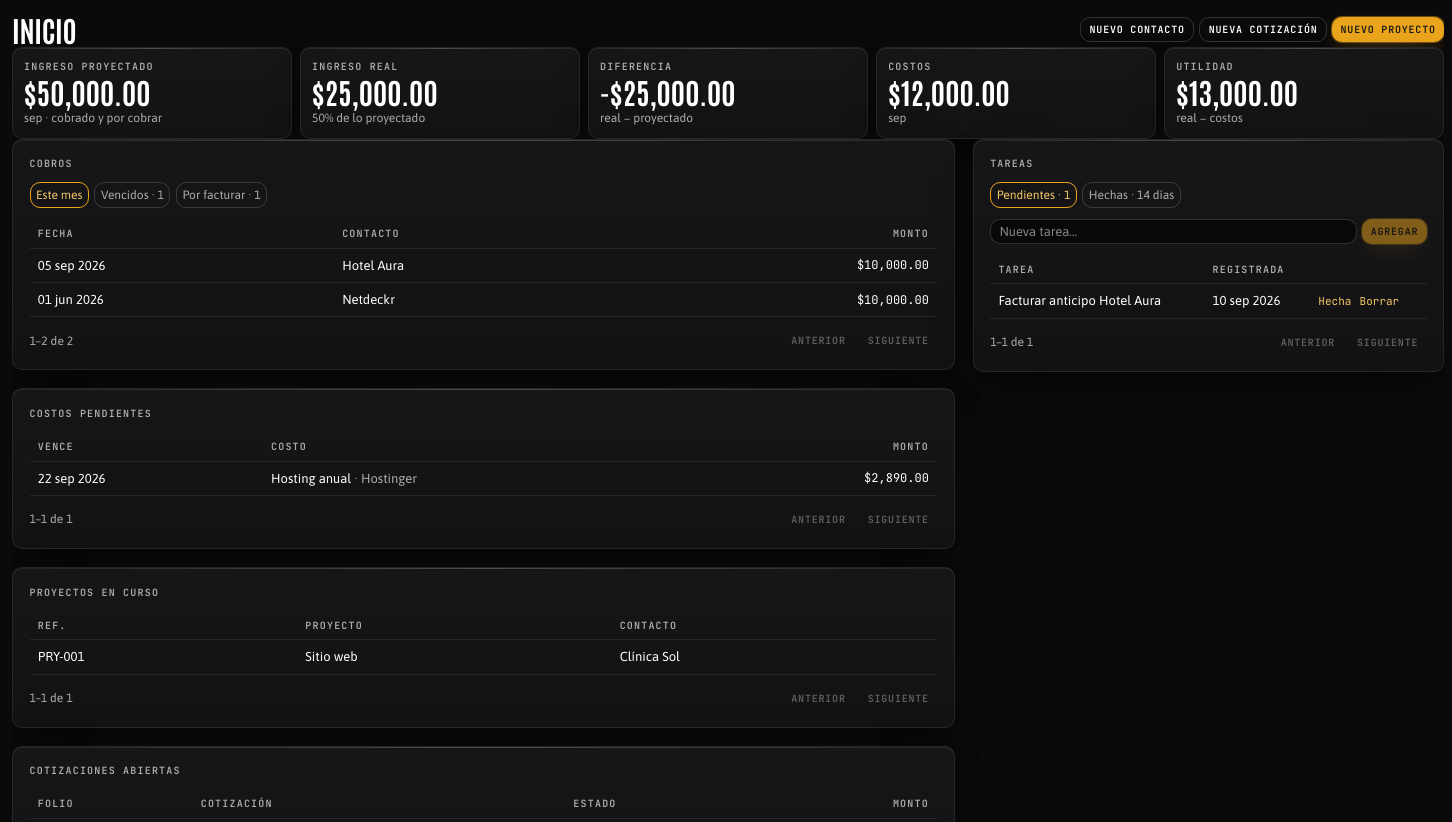
Scenario: Inicio › adds, completes and deletes tasks, and shows those done
Expected: the text "Facturar anticipo Hotel Aura" is shown, [990,284,1204,318]
Type "Llamar a Grupo Terra" into the field with placeholder "Nueva tarea…" at (1174, 231), box [990,219,1357,244]
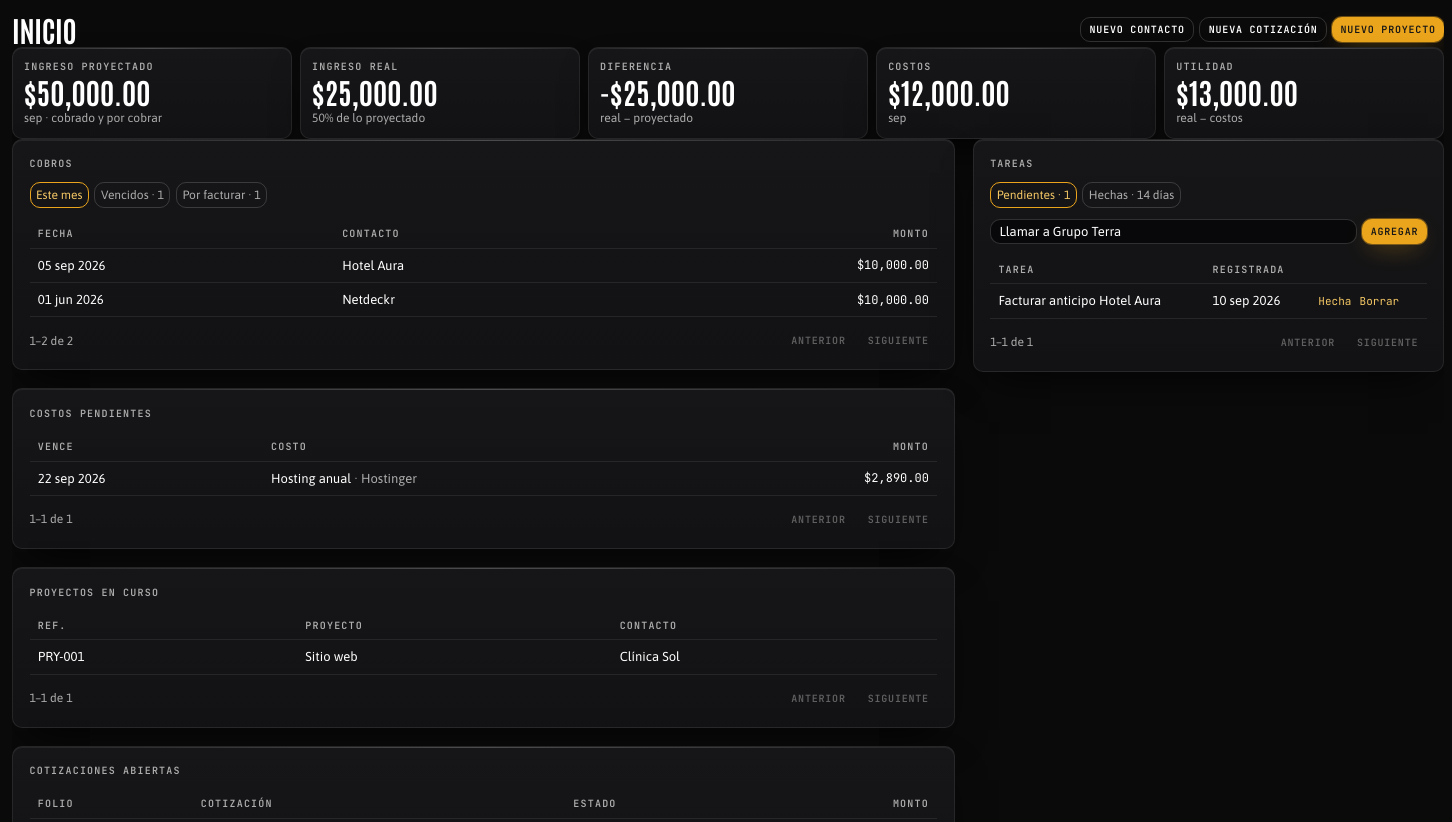
Click the button "Agregar" at (1394, 231), box [1362,219,1426,244]
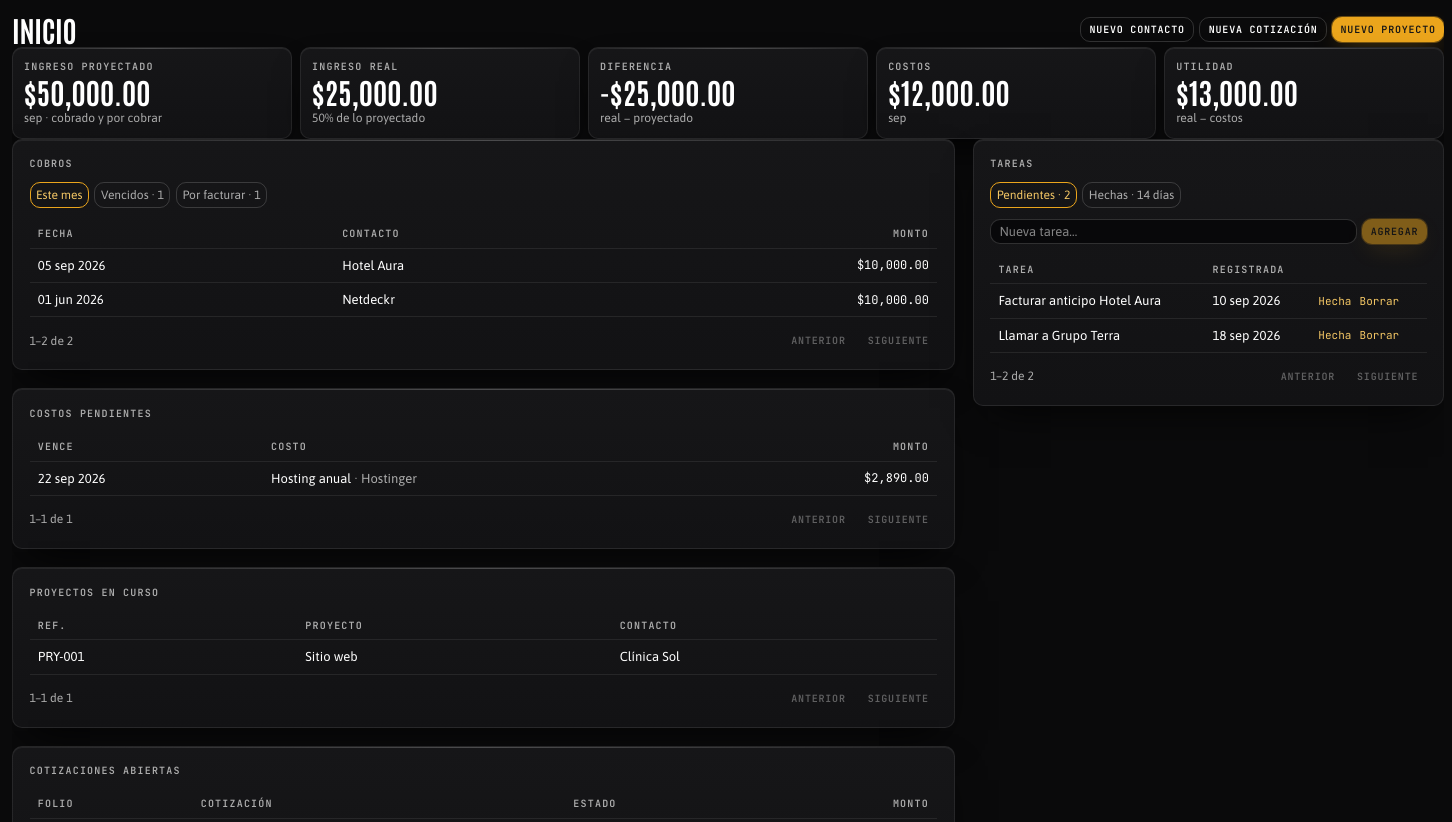
Expected: the text "Llamar a Grupo Terra" is shown, [990,318,1204,352]
Click the button "Hecha" in the row of "Facturar anticipo Hotel Aura" at (1335, 301), box [1318,293,1351,309]
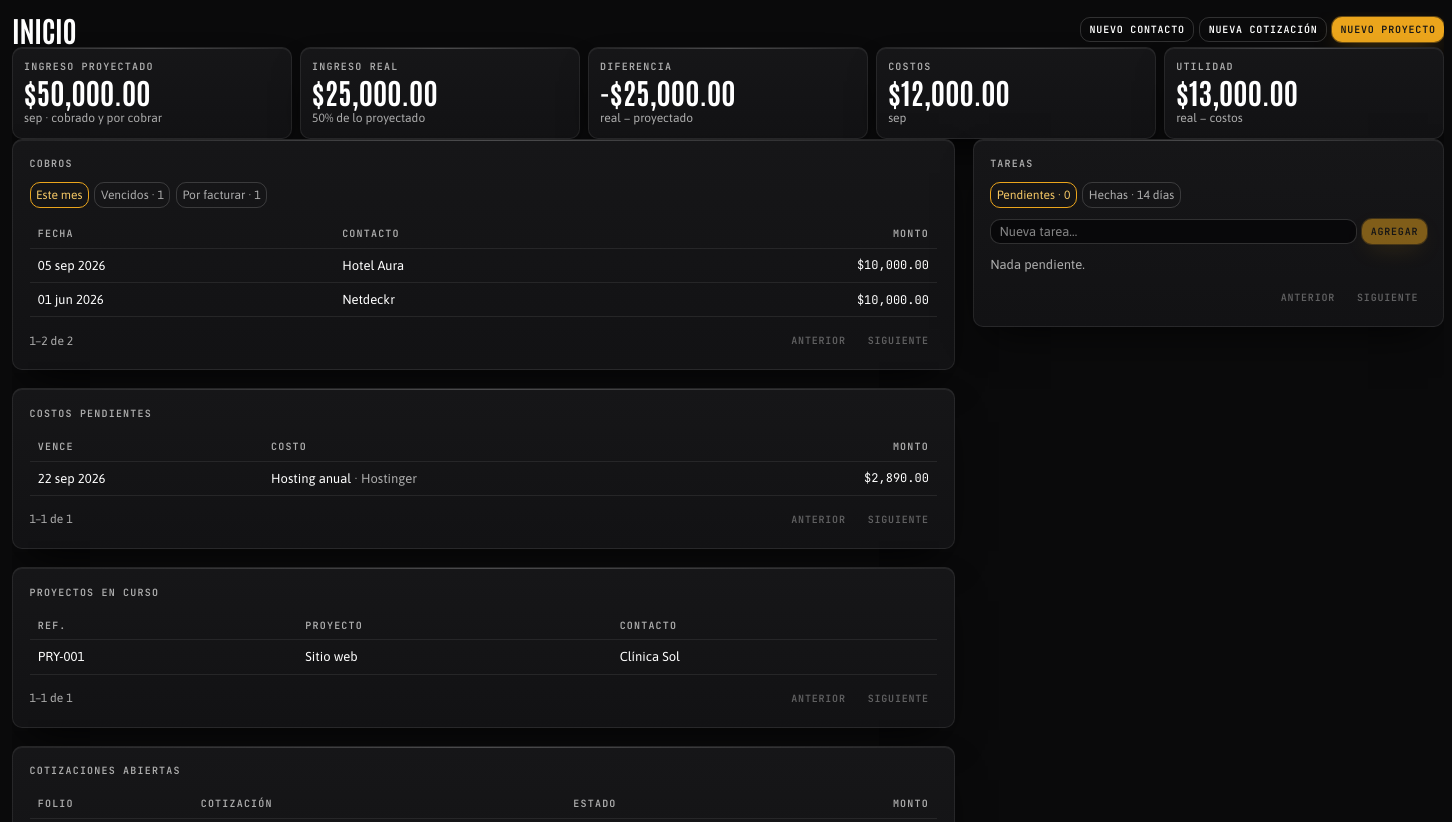
Click the button "Hechas · 14 días" at (1132, 195), box [1082,182,1181,208]
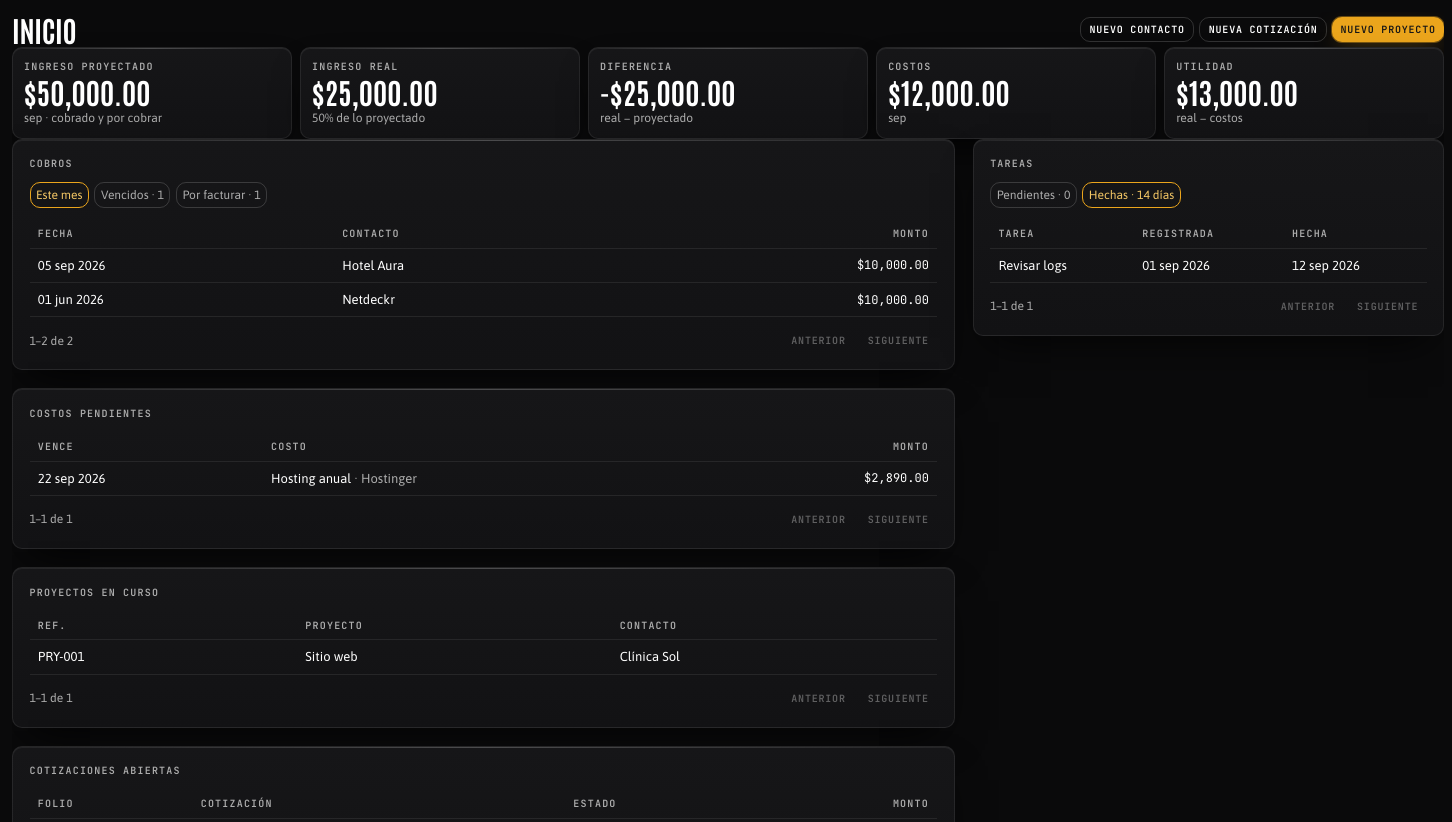
Expected: the text "Revisar logs" is shown, [990,248,1134,282]
